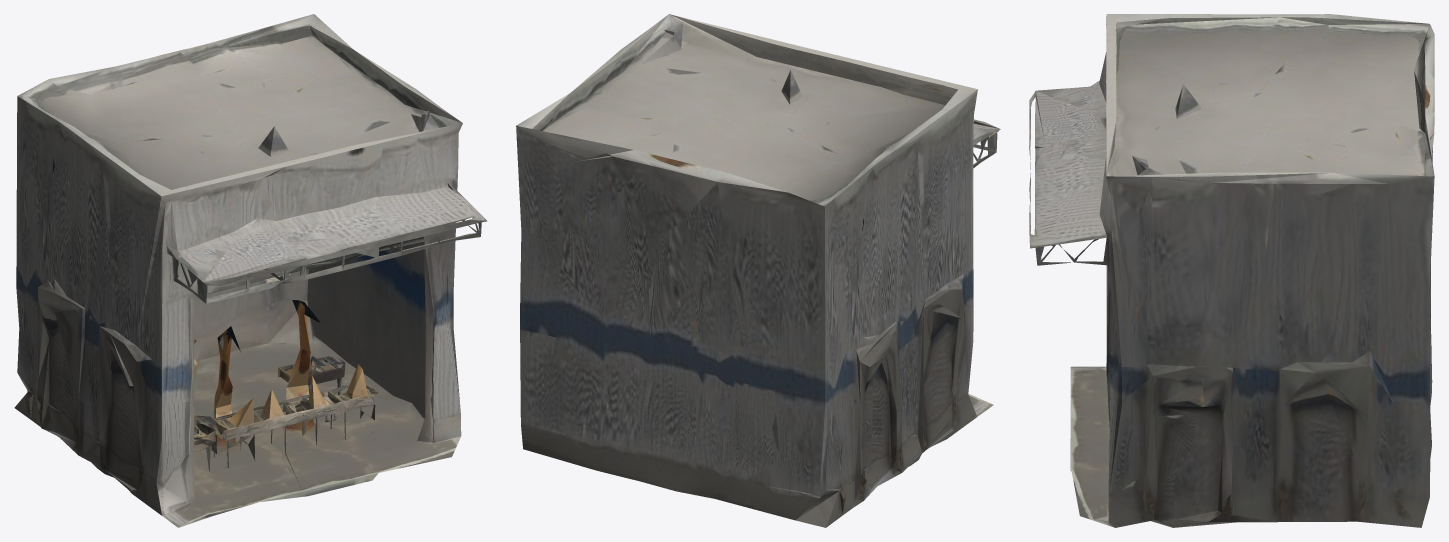
The model's file is fabrica_aberta.glb.
The picture shows the model from 3 angles, left to right: view 1: azimuth 30°, elevation 25°; view 2: azimuth 150°, elevation 25°; view 3: azimuth 270°, elevation 25°; orthographic projection. The views are drawn at different scales.
Visible parts, largest first — view 1: tripo_node_44be4a62-0b5a-4620-b5f8-14c3383387ff; view 2: tripo_node_44be4a62-0b5a-4620-b5f8-14c3383387ff; view 3: tripo_node_44be4a62-0b5a-4620-b5f8-14c3383387ff.
Part boxes in pixels (x1=…): tripo_node_44be4a62-0b5a-4620-b5f8-14c3383387ff: x1=14, y1=14, x2=487, y2=527; tripo_node_44be4a62-0b5a-4620-b5f8-14c3383387ff: x1=516, y1=14, x2=1000, y2=527; tripo_node_44be4a62-0b5a-4620-b5f8-14c3383387ff: x1=1029, y1=14, x2=1434, y2=527.
Size of the model in its own units: 0.9993 by 0.9851 by 0.9994.
1 material, 1 textured.
